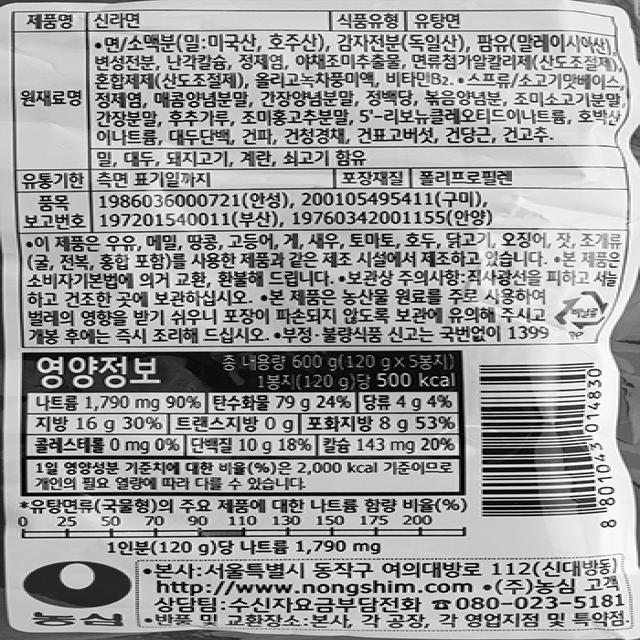Nutrition Label: (15, 348, 474, 500)
